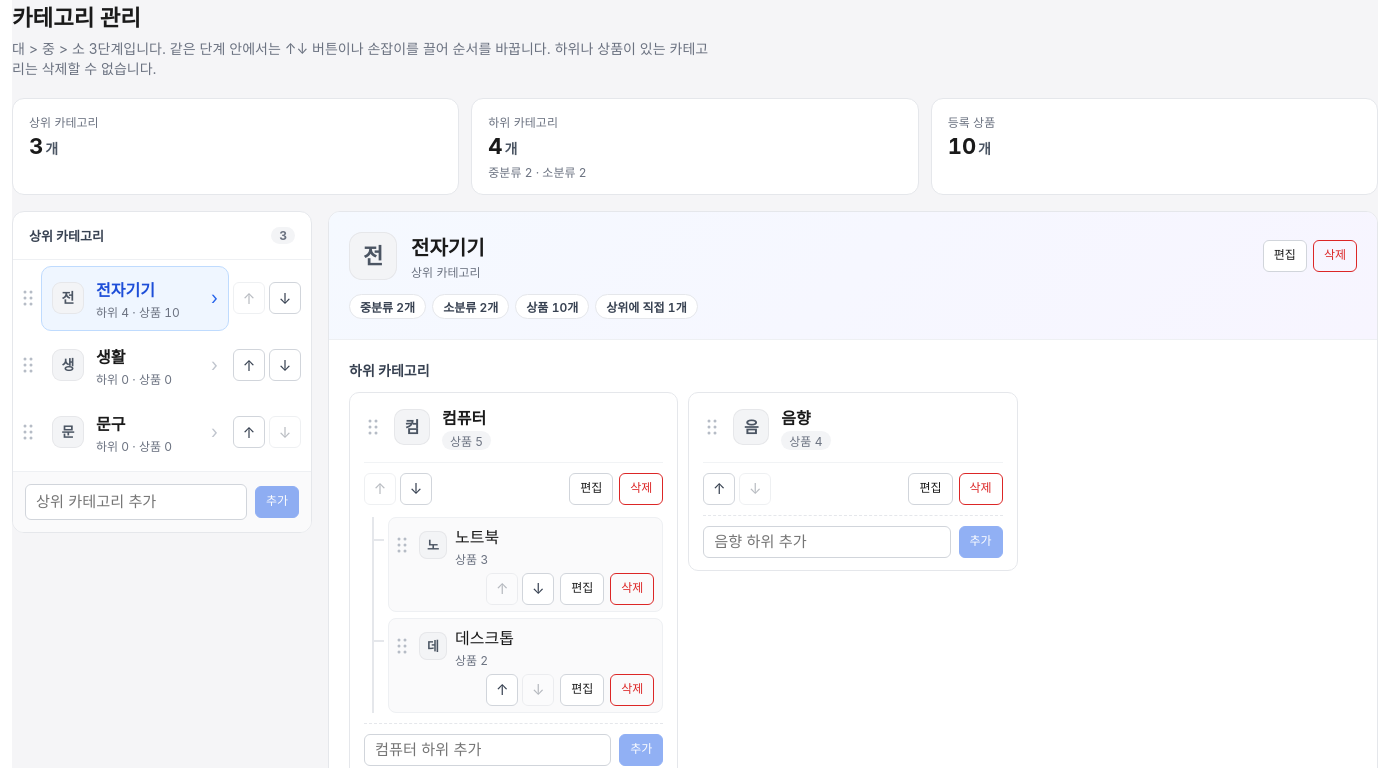
Test: CategoriesPage › reverts the order and shows the server message when a reorder is refused
Click the button named "전자기기 아래로". click: x=285, y=298
box: top-left (269, 282), bottom-right (301, 314)
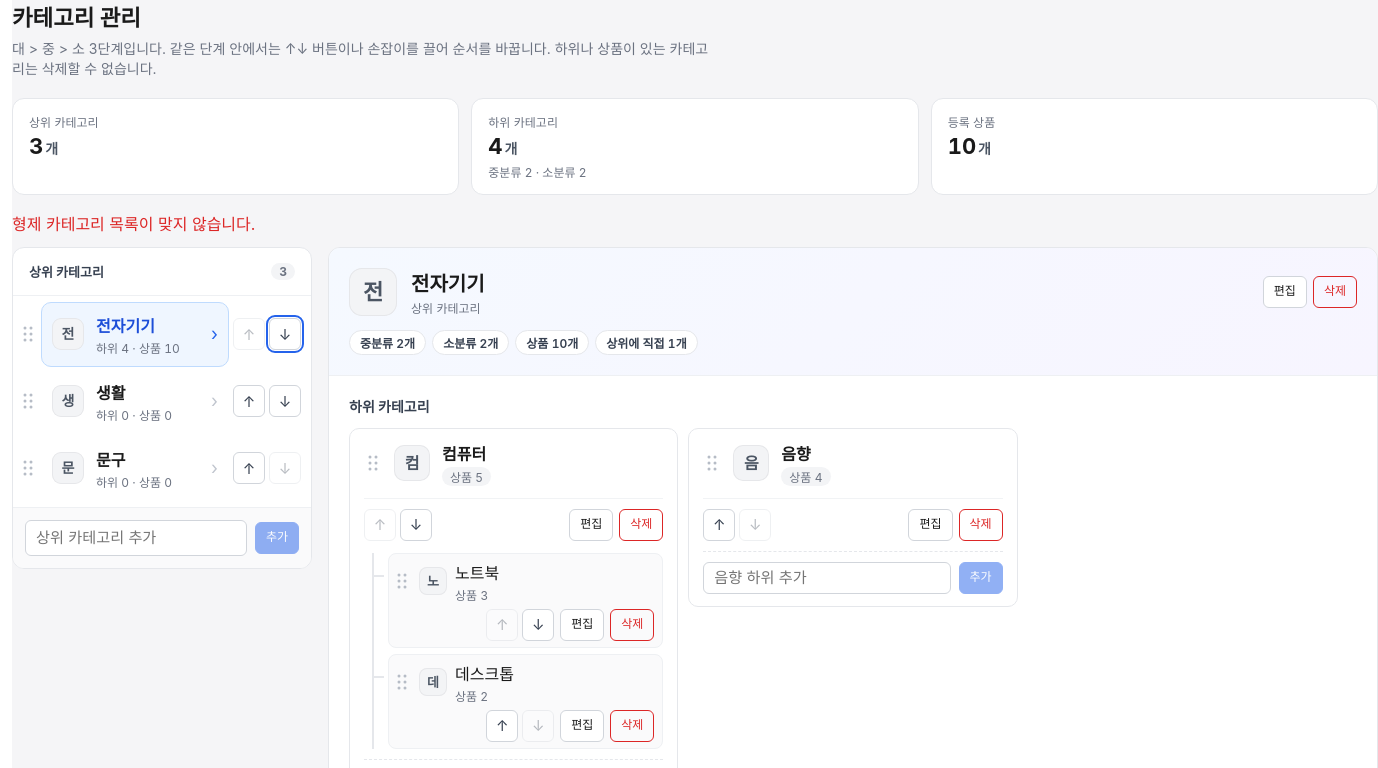
Expected: the button named "전자기기 아래로" is enabled, top-left (269, 318), bottom-right (301, 350)
Expected: the text "형제 카테고리 목록이 맞지 않습니다." is shown, top-left (12, 214), bottom-right (255, 234)
